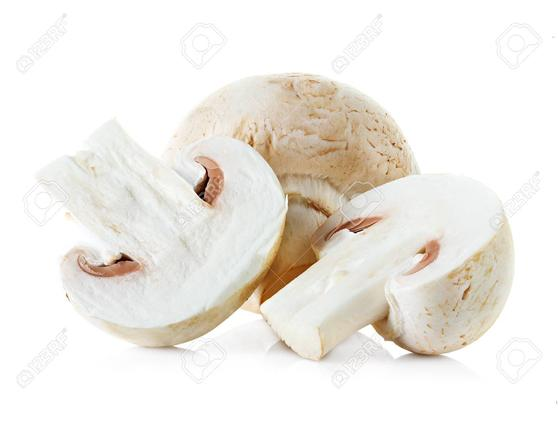champignon: (184, 67, 412, 264)
